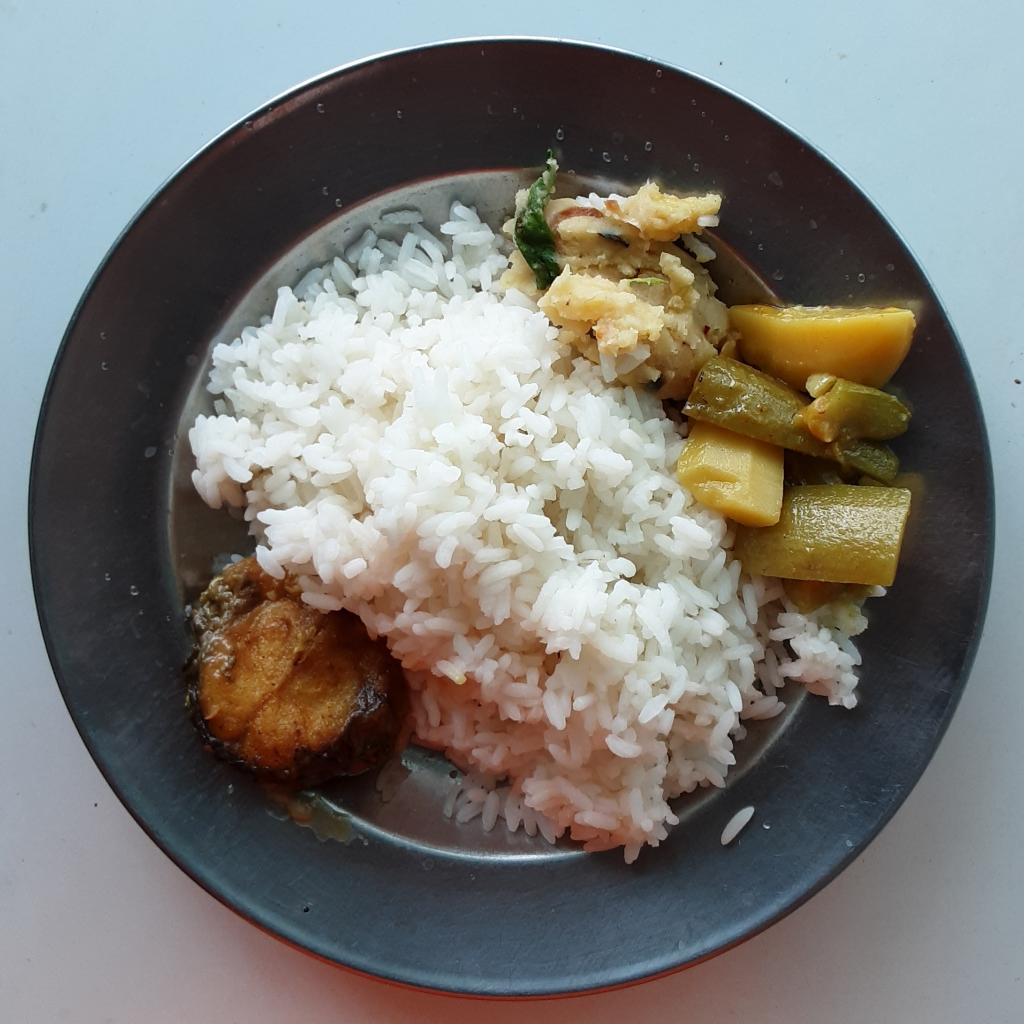dundol: (668, 353, 921, 587)
fish: (185, 561, 419, 783)
potato: (495, 162, 917, 401), (678, 429, 788, 524)
rice: (185, 194, 890, 862)
